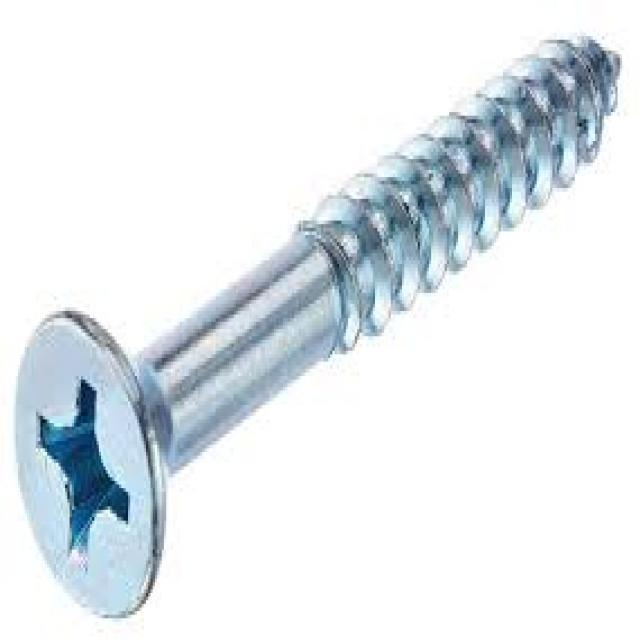Screw: (16, 36, 624, 618)
